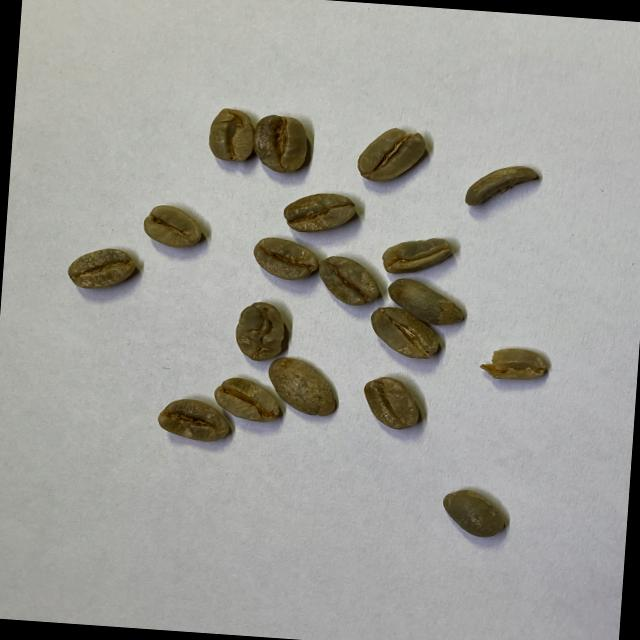bad: (463, 160, 541, 213), (230, 300, 289, 365), (281, 190, 358, 235), (380, 232, 453, 278), (478, 344, 552, 384), (207, 106, 255, 163)
good: (265, 355, 340, 417), (356, 124, 426, 186), (369, 306, 443, 360), (386, 276, 468, 324), (250, 112, 310, 176), (440, 486, 510, 539), (317, 253, 381, 310), (156, 396, 232, 444), (361, 374, 424, 430), (66, 244, 136, 292), (250, 236, 320, 283), (212, 374, 280, 422), (141, 202, 207, 250)
